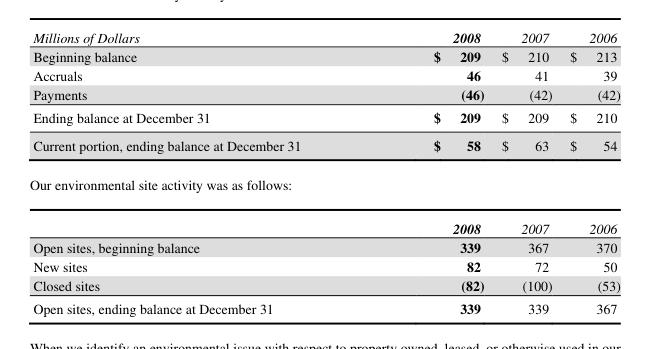table: (28, 28, 619, 318)
table column: (28, 28, 366, 318), (366, 28, 492, 318), (492, 28, 560, 318), (560, 28, 619, 318)
table column header: (28, 28, 619, 46)
table projected row header: (28, 164, 619, 206)
table row: (28, 164, 619, 206), (28, 131, 619, 164), (28, 206, 619, 237), (28, 105, 619, 131), (28, 296, 619, 318), (28, 84, 619, 105), (28, 275, 619, 296), (28, 46, 619, 65), (28, 65, 619, 84), (28, 237, 619, 256), (28, 256, 619, 275), (28, 28, 619, 46)
